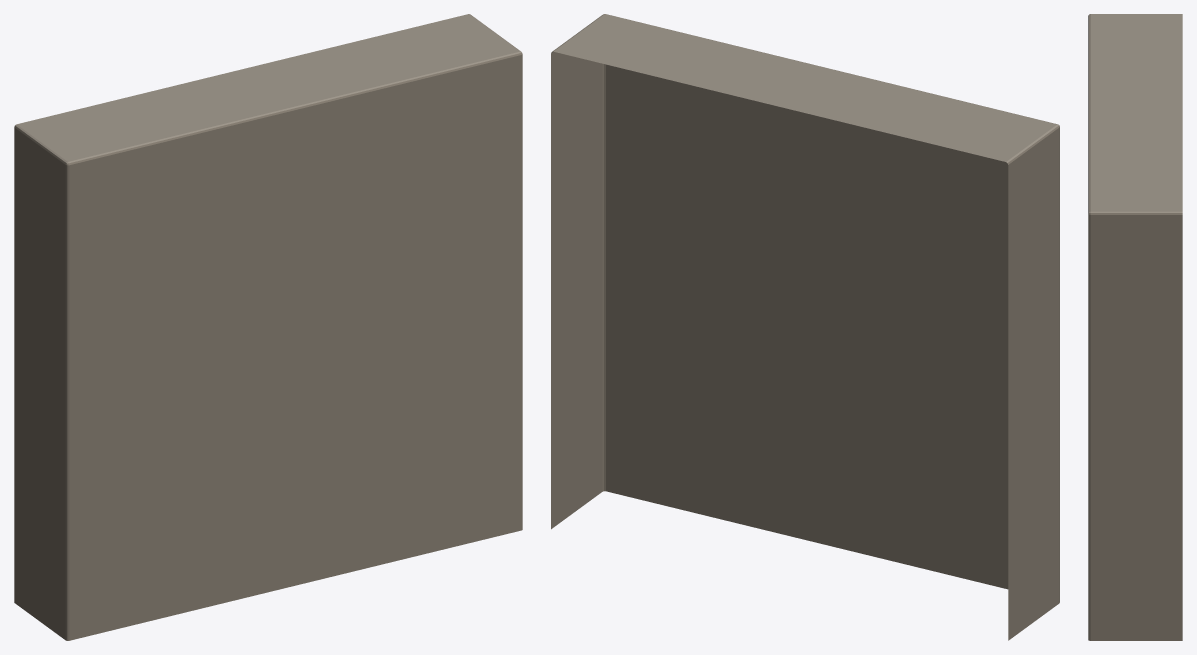
File: WallGranite.fbx
The picture shows the model from 3 angles, left to right: view 1: azimuth 30°, elevation 25°; view 2: azimuth 150°, elevation 25°; view 3: azimuth 270°, elevation 25°; orthographic projection. The views are drawn at different scales.
Visible parts, largest first — view 1: WallGranite; view 2: WallGranite; view 3: WallGranite.
Part boxes in pixels (x1,y1,x2,y2): WallGranite: [14, 14, 522, 640]; WallGranite: [551, 14, 1059, 640]; WallGranite: [1088, 14, 1182, 640].
Size of what is drawn, in the model's own units: 1 by 1 by 0.2.
